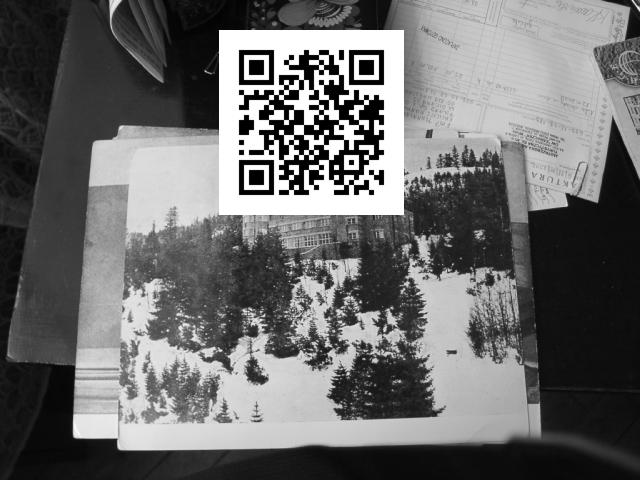qr_code: (219, 30, 403, 214)
